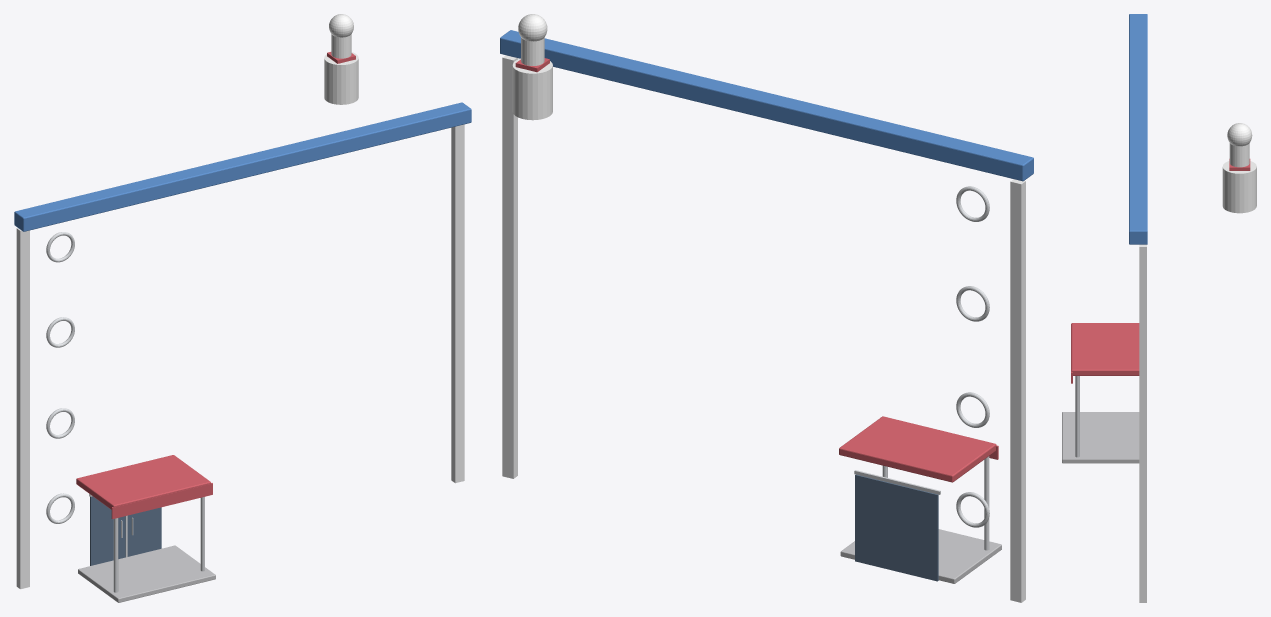
The model's file is bowlfront.glb.
The picture shows the model from 3 angles, left to right: view 1: azimuth 30°, elevation 25°; view 2: azimuth 150°, elevation 25°; view 3: azimuth 270°, elevation 25°; orthographic projection. The views are drawn at different scales.
Parts seen in each view (by area): view 1: Cube, Cube.001, Cube.003, Cube.010, Cube.005, Cylinder, Cylinder.002; view 2: Cube, Cube.001, Cube.005, Cube.003, Cylinder, Cylinder.002, Cube.010; view 3: Cube, Cube.010, Cube.003, Cube.001, Cylinder.002, Sphere, Cylinder.
Boxes of the visible parts, x1,y1,x2,y2 form: Cube: [14, 102, 471, 231]; Cube.001: [16, 124, 464, 589]; Cube.003: [76, 52, 355, 519]; Cube.010: [78, 545, 215, 602]; Cube.005: [90, 496, 161, 565]; Cylinder: [46, 232, 204, 592]; Cylinder.002: [324, 34, 358, 104]; Cube: [500, 30, 1033, 181]; Cube.001: [502, 55, 1025, 602]; Cube.005: [855, 474, 938, 581]; Cube.003: [515, 58, 998, 482]; Cylinder: [854, 186, 989, 550]; Cylinder.002: [512, 37, 552, 120]; Cube.010: [840, 529, 1001, 583]; Cube: [1129, 14, 1147, 244]; Cube.010: [1062, 412, 1139, 463]; Cube.003: [1071, 159, 1250, 383]; Cube.001: [1139, 244, 1146, 602]; Cylinder.002: [1222, 143, 1256, 213]; Sphere: [1227, 123, 1252, 146]; Cylinder: [1075, 376, 1079, 457].
Size of the model in its own units: 16.5 by 15.7 by 6.25.
